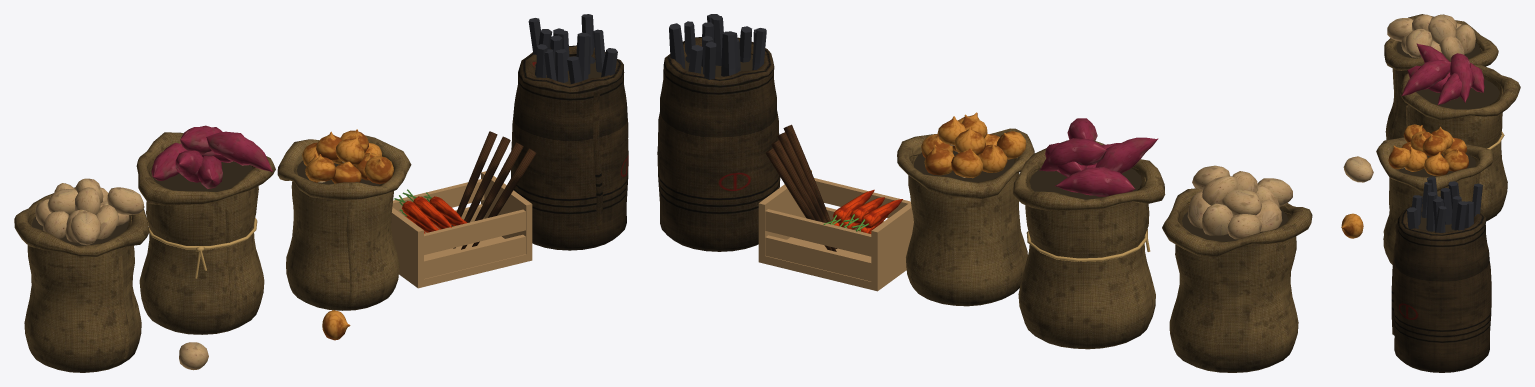
Rendered from produce.glb.
3 renders of one model, left to right at view 1: azimuth 30°, elevation 25°; view 2: azimuth 150°, elevation 25°; view 3: azimuth 270°, elevation 25°, orthographic. The views are drawn at different scales.
Parts seen in each view (by area): view 1: CharcoalSackBody, ProduceSack1, ProduceSack0, ProduceSack2, ProduceCrateSlat11, ProduceCrateSlat10, ProduceCrateSide-1, ProduceSweetEdge10, ProduceCrateBottom, ProduceSack1Inside, ProduceCrateSide1, CharcoalSackBodySeam (+24 smaller); view 2: CharcoalSackBody, ProduceSack1, ProduceSack0, ProduceSack2, ProduceCrateSlat-11, ProduceCrateSide-1, ProduceCrateSlat-10, ProduceSweet10, ProduceCrateBottom, ProduceSweet13, ProduceCrateSide1, ProduceSweetEdge11 (+24 smaller); view 3: CharcoalSackBody, ProduceSack1, ProduceSack2, ProduceSack0, ProduceSack1Inside, ProduceSweetEdge10, ProduceSweet13, ProduceLoose0, ProducePotatoTop01, ProducePotatoEdge00, ProduceSweet11, ProducePotatoEdge01 (+33 smaller).
Part boxes in pixels (<box>): CharcoalSackBody: <box>511,45,628,250</box>; ProduceSack1: <box>136,132,275,334</box>; ProduceSack0: <box>14,187,149,372</box>; ProduceSack2: <box>277,135,411,310</box>; ProduceCrateSlat11: <box>424,209,525,254</box>; ProduceCrateSlat10: <box>424,234,525,278</box>; ProduceCrateSide-1: <box>391,207,423,287</box>; ProduceSweetEdge10: <box>206,131,272,171</box>; ProduceCrateBottom: <box>399,236,532,288</box>; ProduceSack1Inside: <box>151,161,252,191</box>; ProduceCrateSide1: <box>481,171,532,261</box>; CharcoalSackBodySeam: <box>593,90,602,225</box>; CharcoalSackBody: <box>657,37,780,251</box>; ProduceSack1: <box>1013,140,1165,349</box>; ProduceSack0: <box>1162,188,1312,372</box>; ProduceSack2: <box>897,128,1034,306</box>; ProduceCrateSlat-11: <box>765,209,871,256</box>; ProduceCrateSide-1: <box>871,202,913,290</box>; ProduceCrateSlat-10: <box>765,235,871,281</box>; ProduceSweet10: <box>1055,167,1135,196</box>; ProduceCrateBottom: <box>758,237,906,291</box>; ProduceSweet13: <box>1039,138,1106,171</box>; ProduceCrateSide1: <box>758,170,811,263</box>; ProduceSweetEdge11: <box>1095,137,1158,173</box>; CharcoalSackBody: <box>1393,204,1491,372</box>; ProduceSack1: <box>1400,65,1520,221</box>; ProduceSack2: <box>1376,137,1493,264</box>; ProduceSack0: <box>1384,14,1498,140</box>; ProduceSack1Inside: <box>1416,79,1499,109</box>; ProduceSweetEdge10: <box>1401,59,1450,95</box>; ProduceSweet13: <box>1449,53,1472,102</box>; ProduceLoose0: <box>1343,156,1373,182</box>; ProducePotatoTop01: <box>1428,16,1456,44</box>; ProducePotatoEdge00: <box>1405,29,1432,57</box>; ProduceSweet11: <box>1438,73,1474,104</box>; ProducePotatoEdge01: <box>1387,18,1413,41</box>.
Size of the model in its own units: 2.02 by 0.629 by 0.6201.
14 materials, 8 textured.
